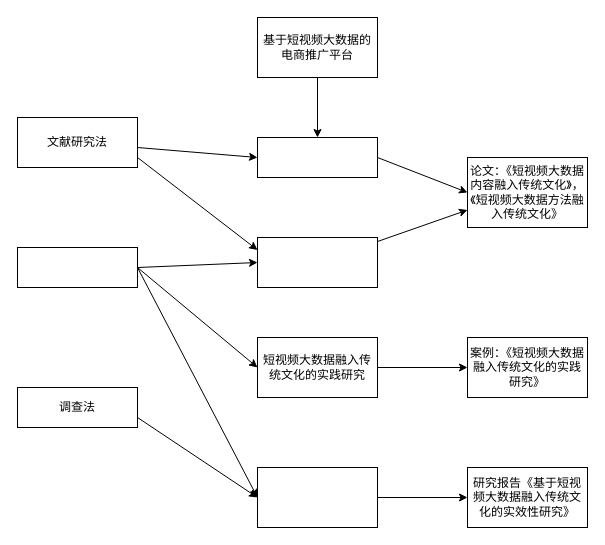
The diagram is 605 pixels wide and 545 high, and some of its shapes have lost their labels. Here are the shapes that lost their labels. From the top down, the centre of each, then its label:
At pixel 317 157: "短视频大数据融入传统文化的内容研究".
At pixel 77 267: "行动研究法".
At pixel 317 262: "短视频大数据融入传统文化的方法研究".
At pixel 317 497: "短视频大数据融入传统文化的评价研究".
